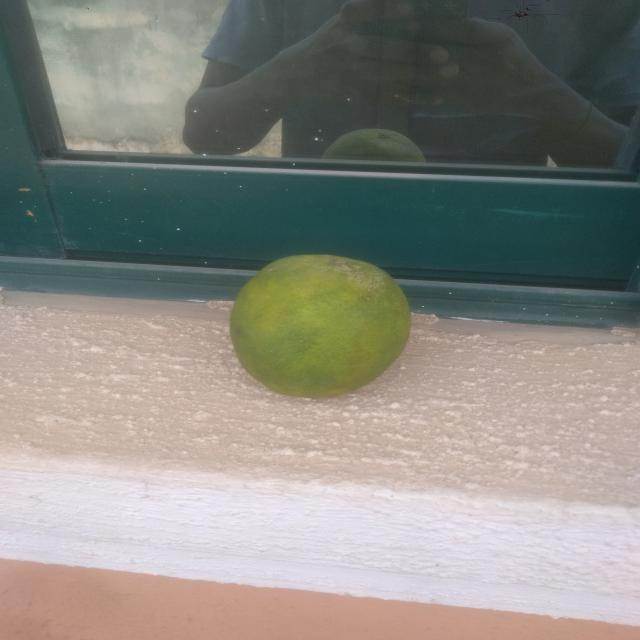agrume: (216, 212, 464, 421)
